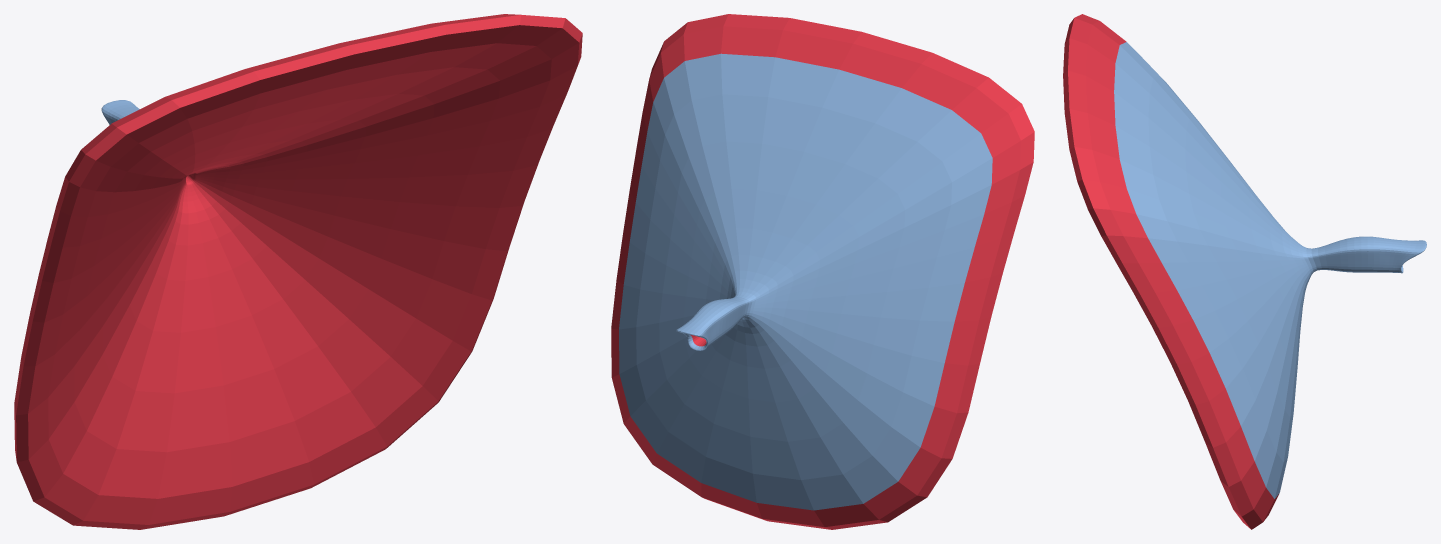
File: fishMouth.fbx
3 renders of one model, left to right at view 1: azimuth 30°, elevation 25°; view 2: azimuth 150°, elevation 25°; view 3: azimuth 270°, elevation 25°, orthographic. The views are drawn at different scales.
Visible parts, largest first — view 1: fihcut; view 2: fihcut; view 3: fihcut.
Boxes of the visible parts, x1,y1,x2,y2 form: fihcut: (14,14,582,529); fihcut: (611,14,1034,529); fihcut: (1063,14,1426,529).
Size of the model in its own units: 3244 by 3414 by 2639.
